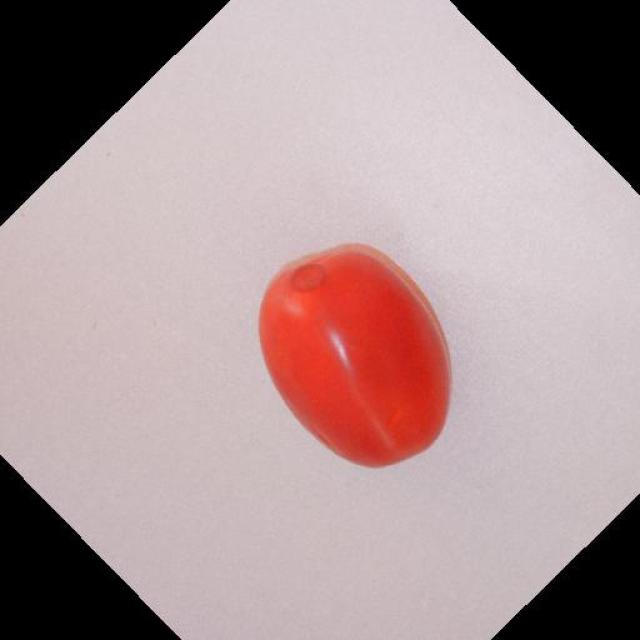Stale_tomato: (260, 218, 493, 463)
